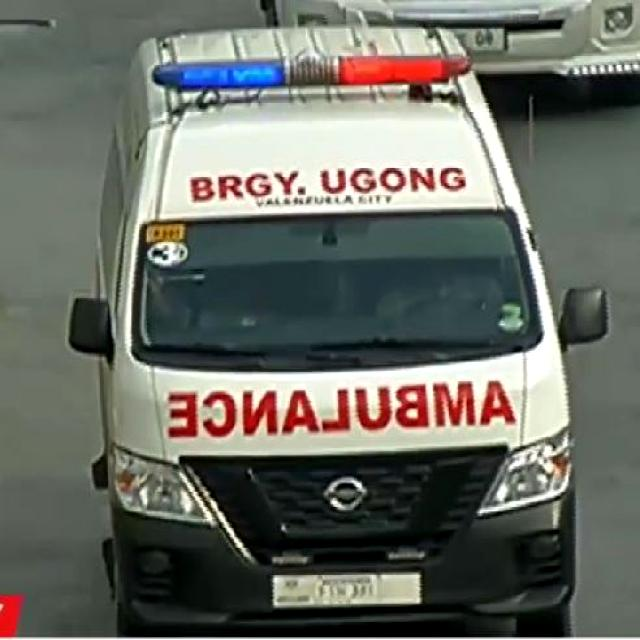emergency: (62, 13, 616, 640)
